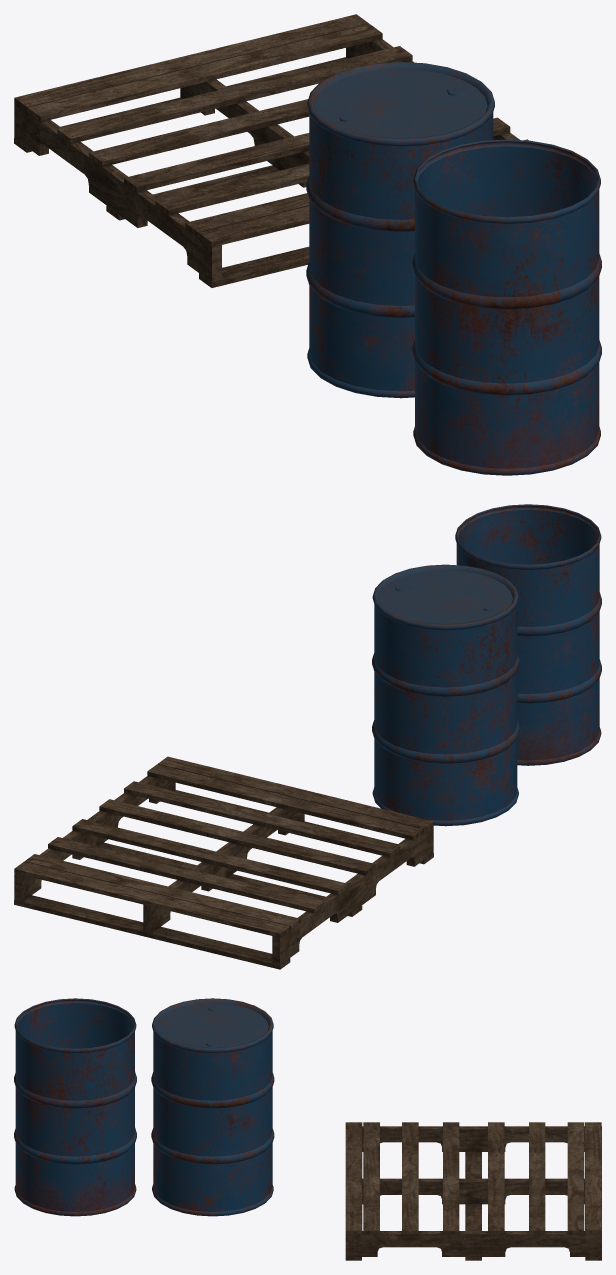
Rendered from barrels_and_pallet.glb.
The picture shows the model from 3 angles, top to bottom: view 1: azimuth 30°, elevation 25°; view 2: azimuth 150°, elevation 25°; view 3: azimuth 270°, elevation 25°; orthographic projection. The views are drawn at different scales.
Visible parts, largest first — view 1: g (×3); view 2: g (×3); view 3: g (×3).
Part boxes in pixels (bbox=[...]): g (×3): bbox=[14, 14, 601, 475]; g (×3): bbox=[14, 504, 601, 969]; g (×3): bbox=[14, 998, 601, 1260].
Size of the model in its own units: 0.8717 by 0.6291 by 2.
Materials: 2 (2 with a texture image).
